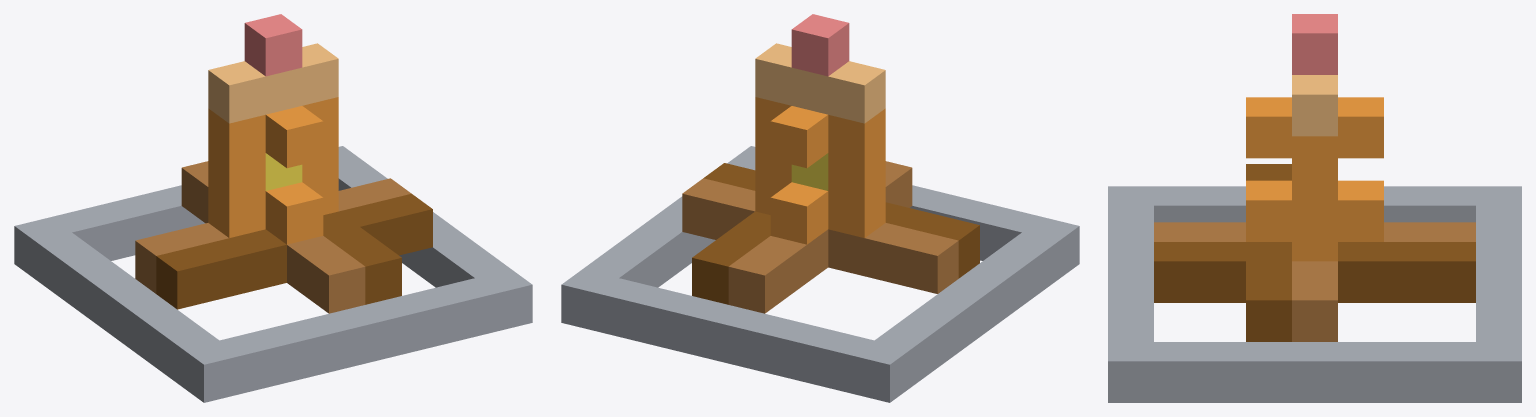
The model's file is campfire.glb.
3 renders of one model, left to right at view 1: azimuth 30°, elevation 25°; view 2: azimuth 150°, elevation 25°; view 3: azimuth 270°, elevation 25°, orthographic. The views are drawn at different scales.
Size of the model in its own units: 0.9 by 0.7 by 0.9.
